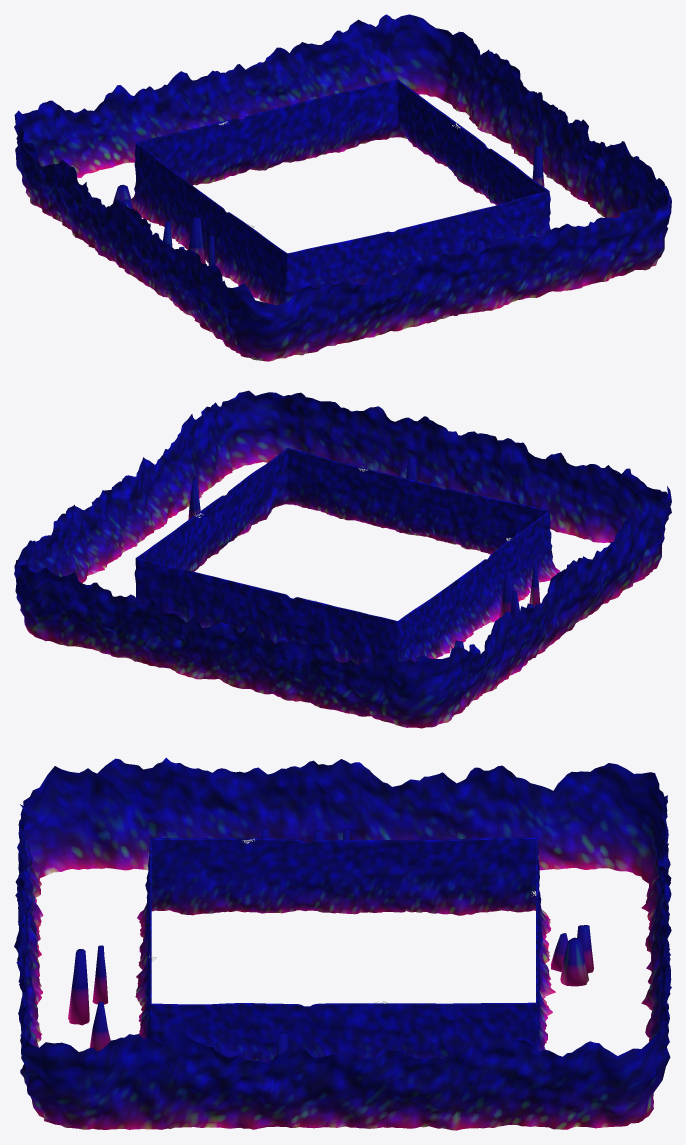
File: DiaNguc.fbx
3 renders of one model, top to bottom at view 1: azimuth 30°, elevation 25°; view 2: azimuth 150°, elevation 25°; view 3: azimuth 270°, elevation 25°, orthographic. The views are drawn at different scales.
Parts seen in each view (by area): view 1: VachNgoai, VachVuc, CotDa; view 2: VachNgoai, VachVuc, CotDa; view 3: VachNgoai, VachVuc, CotDa.
Part boxes in pixels (left/top/right/bottom): VachNgoai: left=14, top=14, right=671, bottom=361; VachVuc: left=131, top=79, right=550, bottom=305; CotDa: left=113, top=146, right=544, bottom=265; VachNgoai: left=14, top=390, right=671, bottom=728; VachVuc: left=134, top=448, right=559, bottom=665; CotDa: left=188, top=456, right=540, bottom=662; VachNgoai: left=14, top=757, right=671, bottom=1130; VachVuc: left=135, top=837, right=555, bottom=1062; CotDa: left=68, top=828, right=593, bottom=1055.
Size of the model in its own units: 22880 by 4013 by 22847.
